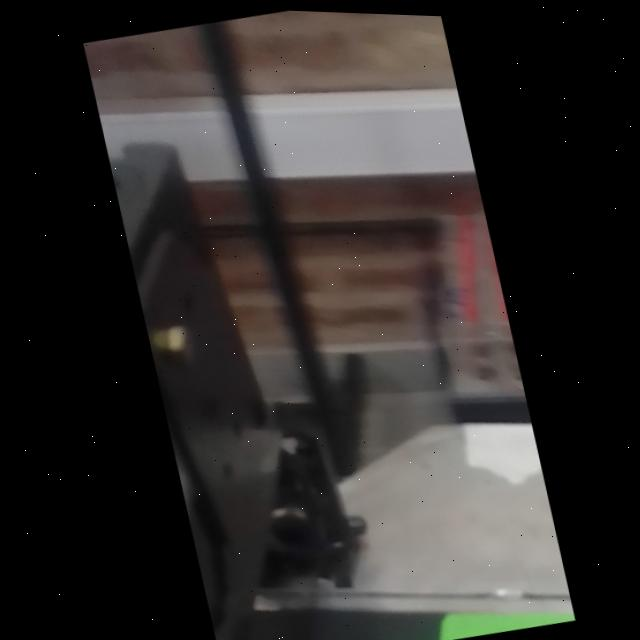greenBox: (377, 561, 572, 640)
